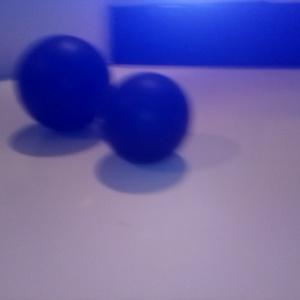dead_ball: (16, 35, 112, 130), (102, 71, 190, 163)
